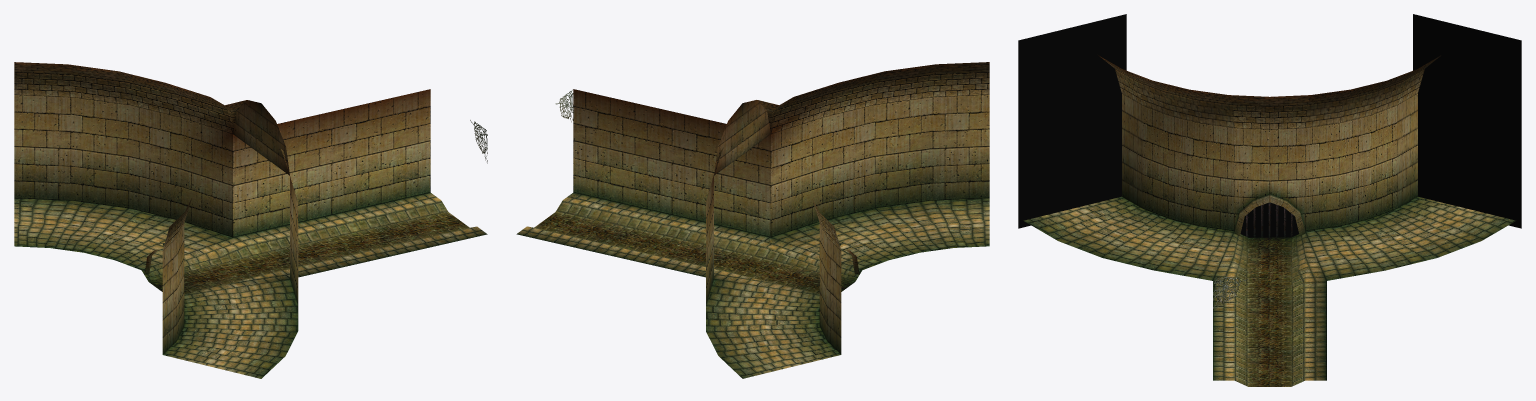
Rendered from Mission12A_Sewer02_D.glb.
The picture shows the model from 3 angles, left to right: view 1: azimuth 30°, elevation 25°; view 2: azimuth 150°, elevation 25°; view 3: azimuth 270°, elevation 25°; orthographic projection.
Parts seen in each view (by area): view 1: MISSION12A_SEWER02_D; view 2: MISSION12A_SEWER02_D; view 3: MISSION12A_SEWER02_D.
Part boxes in pixels (bbox=[...]): MISSION12A_SEWER02_D: bbox=[14, 62, 487, 378]; MISSION12A_SEWER02_D: bbox=[516, 62, 989, 378]; MISSION12A_SEWER02_D: bbox=[1018, 14, 1521, 386].
Bounding box in the file's own units: 15.1 × 7.4 × 17.66.
7 materials, 6 textured.
